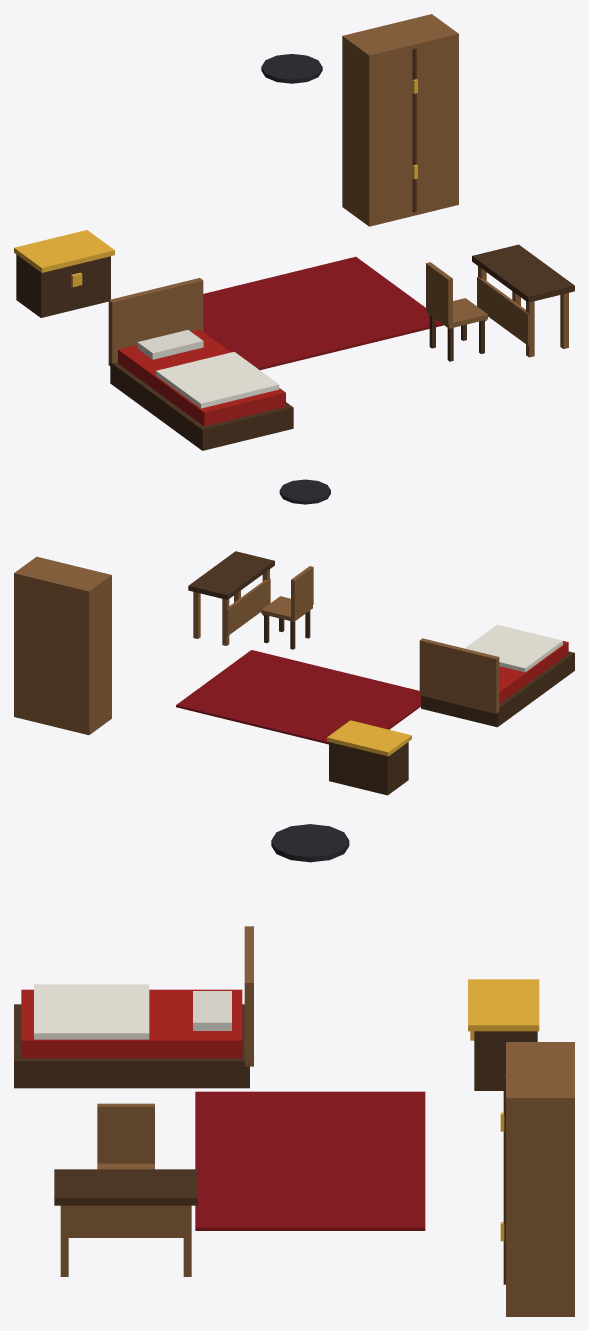
File: SM_Interior_ra_player_room_Props.fbx
The picture shows the model from 3 angles, top to bottom: view 1: azimuth 30°, elevation 25°; view 2: azimuth 150°, elevation 25°; view 3: azimuth 270°, elevation 25°; orthographic projection. The views are drawn at different scales.
Parts seen in each view (by area): view 1: SM_Interior_ra_player_room_Props; view 2: SM_Interior_ra_player_room_Props; view 3: SM_Interior_ra_player_room_Props.
Part boxes in pixels (box(x1,y1,x2,y2)): SM_Interior_ra_player_room_Props: box(14, 14, 574, 450); SM_Interior_ra_player_room_Props: box(14, 479, 574, 795); SM_Interior_ra_player_room_Props: box(14, 824, 574, 1316).
Size of the model in its own units: 5.76 by 3.11 by 4.88.
